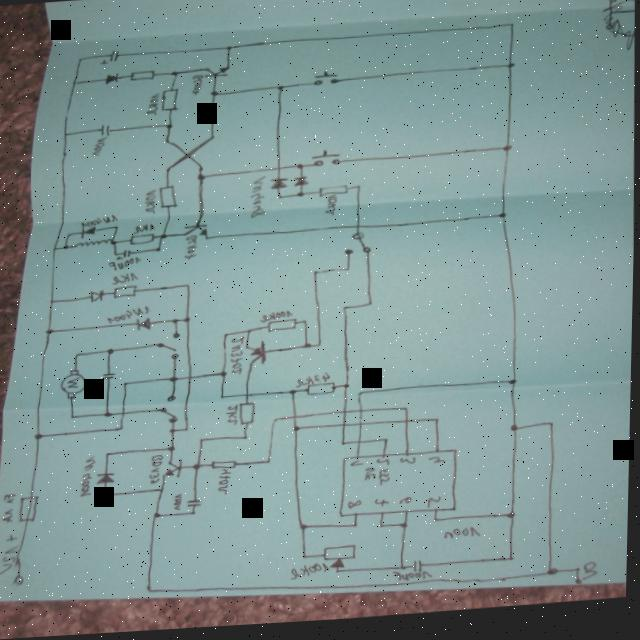capacitor: (97, 50, 119, 65), (115, 251, 131, 261), (412, 564, 424, 577), (186, 501, 205, 509), (98, 125, 110, 137), (101, 372, 117, 381)
crossover: (180, 154, 192, 162), (402, 422, 411, 429), (357, 425, 364, 432), (341, 412, 348, 419), (354, 227, 361, 234), (355, 443, 363, 449), (291, 418, 299, 424), (243, 394, 251, 400), (358, 412, 365, 418), (186, 376, 192, 383), (121, 411, 127, 418), (340, 426, 346, 432), (275, 168, 281, 174)
diode: (96, 473, 116, 486), (268, 180, 288, 193), (79, 227, 97, 239), (291, 179, 309, 191), (135, 319, 151, 332), (103, 73, 119, 86), (89, 291, 104, 304)
inductor: (70, 240, 110, 249)
junction: (297, 525, 310, 534), (509, 429, 521, 438), (547, 573, 559, 582), (195, 175, 205, 183), (166, 447, 177, 454), (167, 72, 178, 79), (191, 465, 202, 472), (506, 517, 517, 524), (153, 513, 162, 521), (302, 345, 312, 352), (168, 377, 178, 384), (34, 433, 44, 440), (497, 217, 507, 224), (295, 194, 305, 201), (398, 527, 409, 533), (501, 151, 512, 157), (146, 588, 154, 596), (45, 328, 54, 335), (153, 247, 162, 254), (294, 166, 303, 173), (103, 412, 113, 418), (163, 125, 173, 131), (208, 93, 218, 99), (508, 385, 518, 391), (170, 319, 178, 326), (117, 426, 125, 433), (102, 493, 110, 500), (189, 511, 197, 518), (264, 461, 272, 468), (383, 440, 391, 447), (507, 27, 515, 34), (275, 87, 283, 94), (158, 235, 167, 241), (106, 349, 115, 355), (343, 386, 350, 393), (352, 526, 360, 532), (399, 569, 407, 575), (301, 557, 309, 563), (292, 429, 300, 435), (219, 373, 227, 379), (182, 318, 190, 324), (110, 239, 116, 247), (207, 137, 215, 143), (223, 47, 231, 53), (183, 284, 191, 290), (121, 382, 129, 388), (241, 437, 249, 443), (271, 420, 279, 426), (433, 422, 441, 428), (356, 394, 364, 400), (505, 68, 513, 74), (508, 562, 516, 568), (574, 573, 582, 579), (366, 305, 373, 311), (245, 331, 252, 337), (113, 225, 119, 232), (197, 167, 203, 174), (162, 140, 169, 146), (158, 488, 165, 494), (198, 439, 205, 445), (403, 410, 410, 416), (340, 444, 347, 450), (288, 393, 296, 398), (168, 430, 176, 435), (432, 522, 440, 527), (353, 188, 361, 193), (378, 527, 384, 533), (219, 396, 225, 402), (69, 414, 75, 420), (105, 452, 111, 458), (62, 244, 68, 250), (164, 168, 170, 174), (62, 132, 68, 138), (51, 246, 57, 252), (549, 427, 555, 433), (48, 299, 54, 305), (312, 273, 318, 278), (302, 322, 308, 327), (222, 335, 228, 340), (64, 233, 70, 238), (75, 57, 81, 62), (70, 81, 76, 86), (276, 198, 282, 203), (344, 271, 350, 275), (341, 310, 347, 314), (317, 347, 323, 351), (73, 353, 79, 357), (183, 429, 189, 433), (112, 253, 118, 257)
resistor: (324, 548, 358, 578), (157, 186, 178, 211), (305, 385, 337, 400), (238, 404, 257, 427), (159, 90, 178, 113), (266, 321, 297, 335), (316, 187, 347, 200), (112, 286, 137, 300), (210, 462, 238, 473), (127, 235, 155, 246), (127, 71, 155, 82)
switch: (156, 334, 180, 362), (343, 236, 371, 259), (309, 152, 341, 171), (159, 396, 177, 425), (311, 74, 338, 90)
terminal: (13, 574, 26, 586), (574, 584, 583, 592)
text: (247, 178, 267, 221), (106, 306, 151, 325), (0, 534, 20, 575), (290, 565, 332, 584), (79, 456, 97, 498), (393, 572, 435, 587), (229, 339, 245, 378), (295, 374, 331, 391), (79, 214, 118, 229), (365, 469, 391, 491), (147, 455, 165, 486), (444, 531, 482, 545), (107, 258, 141, 273), (182, 236, 198, 262), (259, 313, 293, 325), (143, 190, 157, 217), (90, 137, 108, 158), (110, 273, 139, 286), (217, 471, 231, 497), (323, 197, 338, 220), (144, 95, 159, 117), (582, 568, 599, 587), (189, 76, 202, 98), (225, 408, 239, 428), (131, 224, 155, 235), (427, 500, 443, 513), (2, 508, 15, 523), (173, 495, 184, 512), (374, 501, 391, 512), (399, 461, 418, 470), (428, 460, 447, 469), (3, 493, 17, 504), (347, 504, 363, 513), (376, 462, 391, 471), (350, 463, 366, 470), (399, 501, 413, 509)
transistor: (244, 343, 267, 370), (181, 226, 208, 244), (162, 461, 183, 481), (202, 68, 230, 80)
